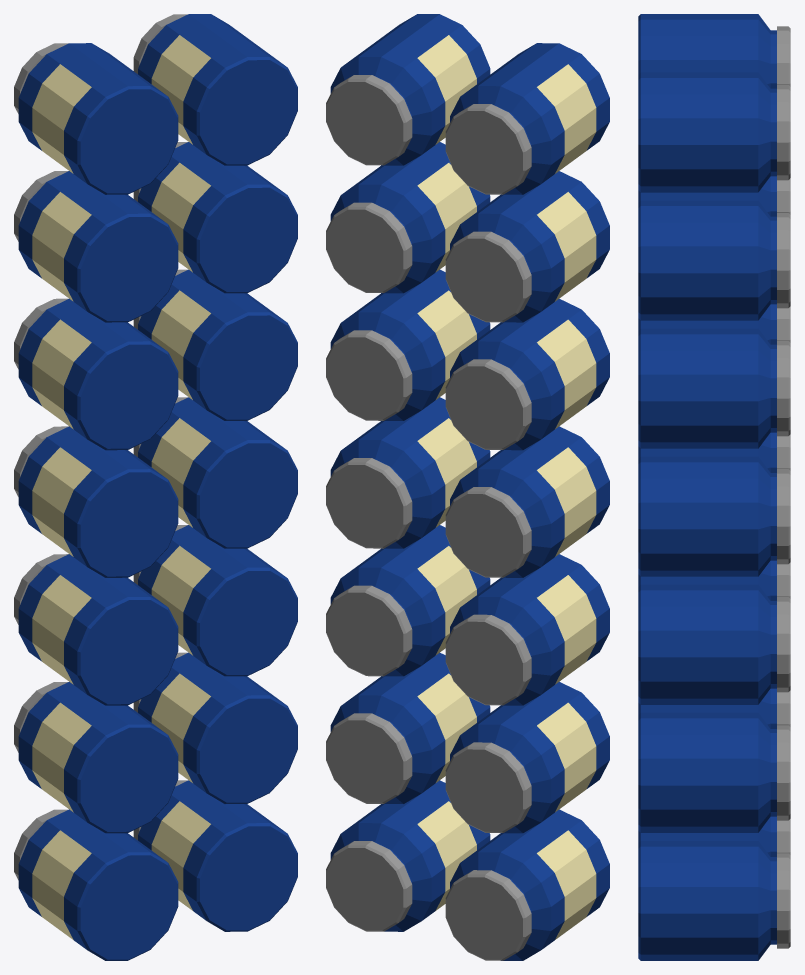
File: BottlePlasticShelf.fbx
3 views of the same model, side by side, from view 1: azimuth 30°, elevation 25°; view 2: azimuth 150°, elevation 25°; view 3: azimuth 270°, elevation 25° (orthographic).
Parts seen in each view (by area): view 1: Proteinpulverdose; view 2: Proteinpulverdose; view 3: Proteinpulverdose.
Part boxes in pixels (x1,y1,x2,y2): Proteinpulverdose: (14,14,297,960); Proteinpulverdose: (326,14,609,960); Proteinpulverdose: (638,14,790,960).
Size of the model in its own units: 120 by 457 by 71.84.
